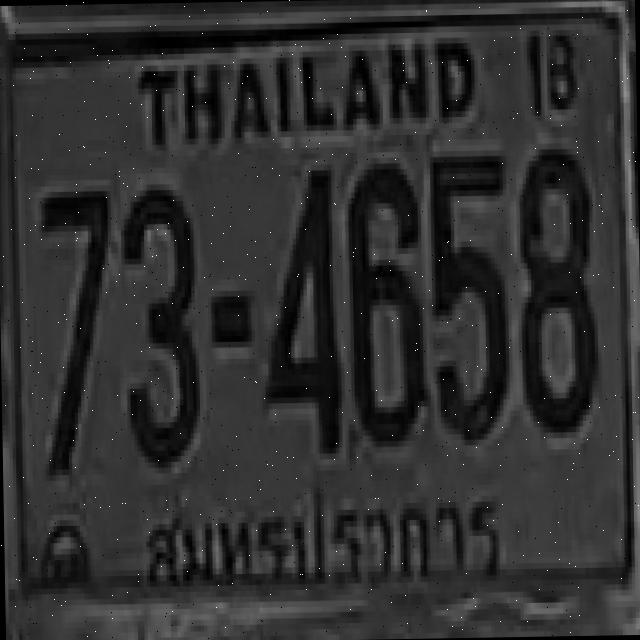3: (120, 183, 197, 462)
4: (261, 162, 338, 446)
5: (426, 147, 507, 437)
6: (346, 157, 422, 441)
7: (36, 182, 112, 472)
8: (515, 143, 596, 427)
SamutPrakan: (139, 482, 506, 594)
